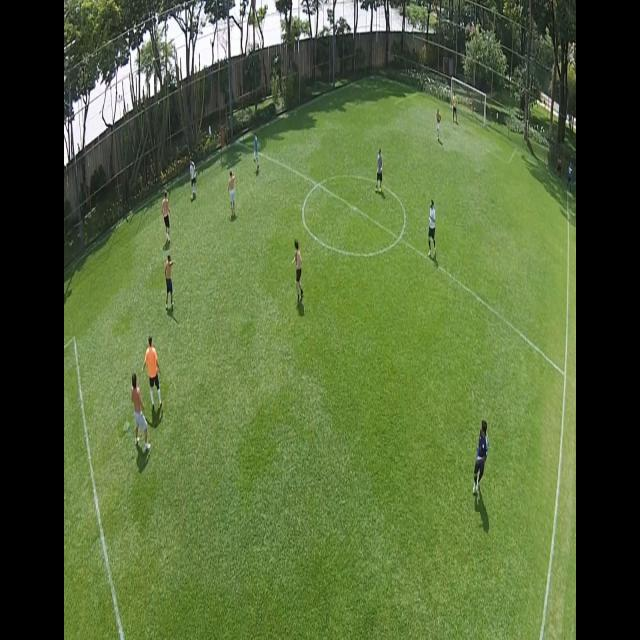humans: (130, 369, 148, 459), (144, 332, 163, 410), (475, 412, 490, 500), (290, 234, 306, 302), (164, 249, 178, 320), (161, 186, 176, 247), (426, 194, 439, 262), (226, 168, 238, 223), (188, 153, 200, 205), (375, 146, 386, 199), (251, 128, 263, 176), (452, 88, 460, 128), (435, 105, 443, 144)
